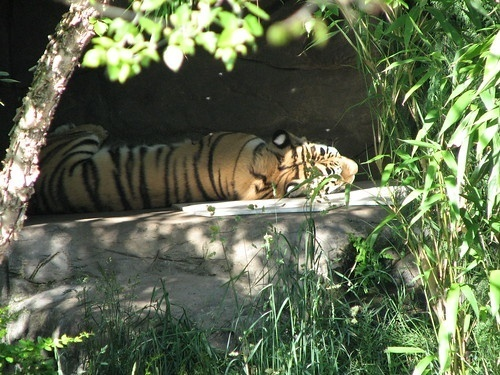tigre: (32, 120, 359, 210)
